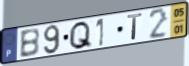1: (94, 17, 105, 47)
2: (148, 7, 171, 42)
9: (42, 24, 62, 56)
B: (19, 27, 41, 59)
Q: (68, 20, 93, 51)
T: (126, 12, 144, 41)
